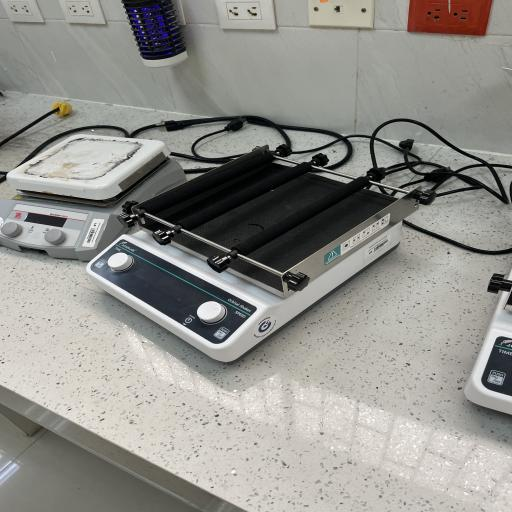Agitador_Orbital_DLAB: (72, 140, 432, 376)
